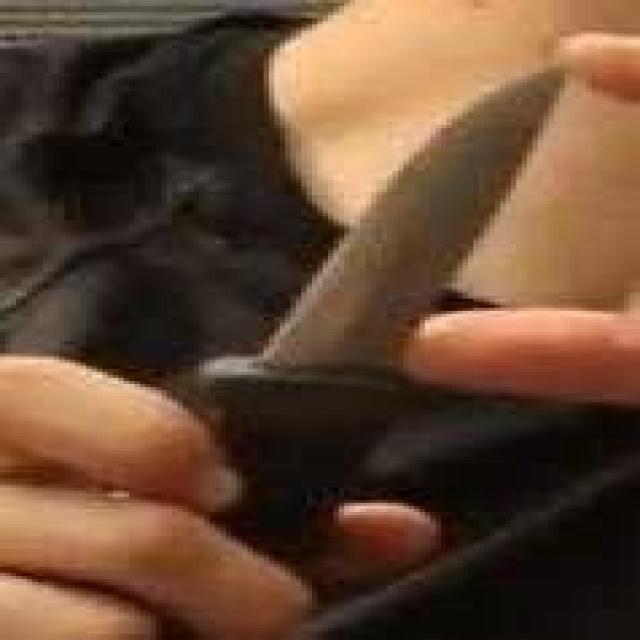Knife: (176, 56, 580, 640)
